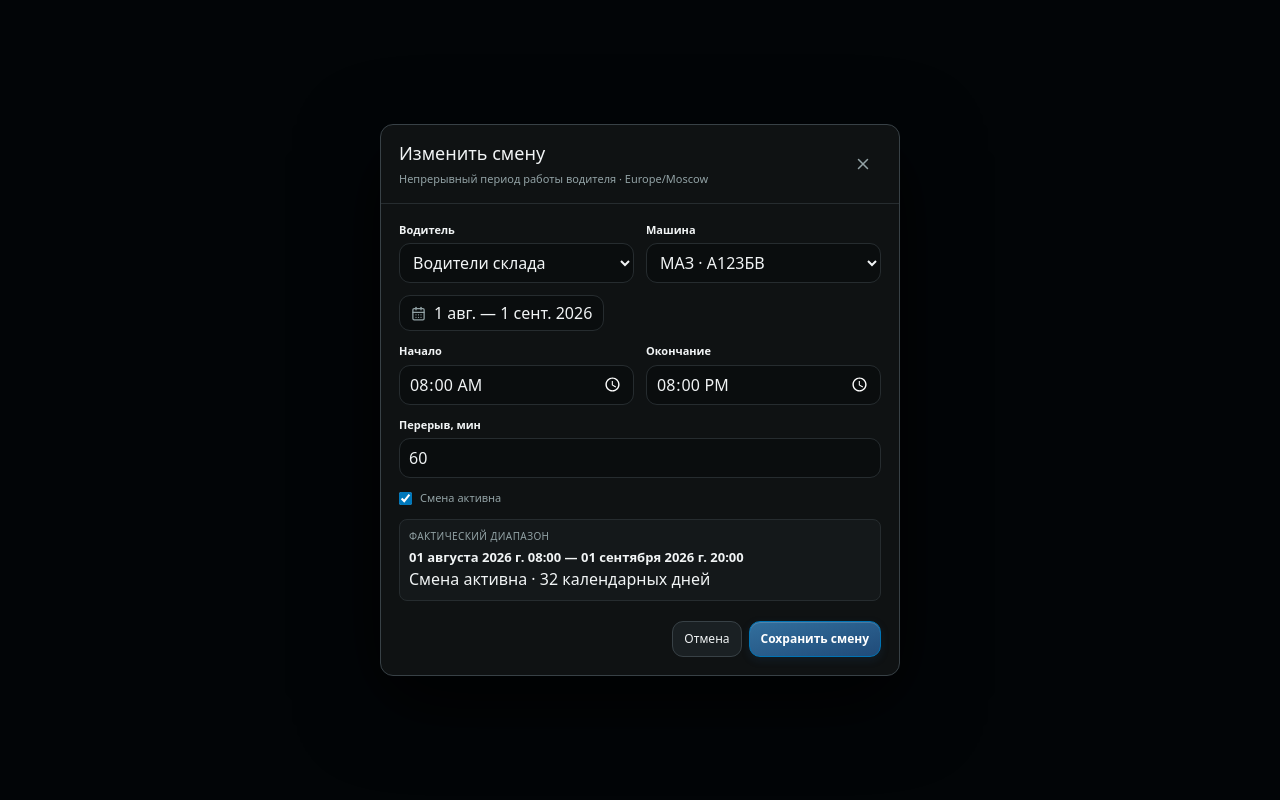
Test case: driver shift range › rejects an inclusive range longer than 31 consecutive days
What coordinates should you click on to do the following:
click the button "Сохранить смену"
I would click on:
 (815, 639)
Its box is x1=748 y1=621 x2=881 y2=657.
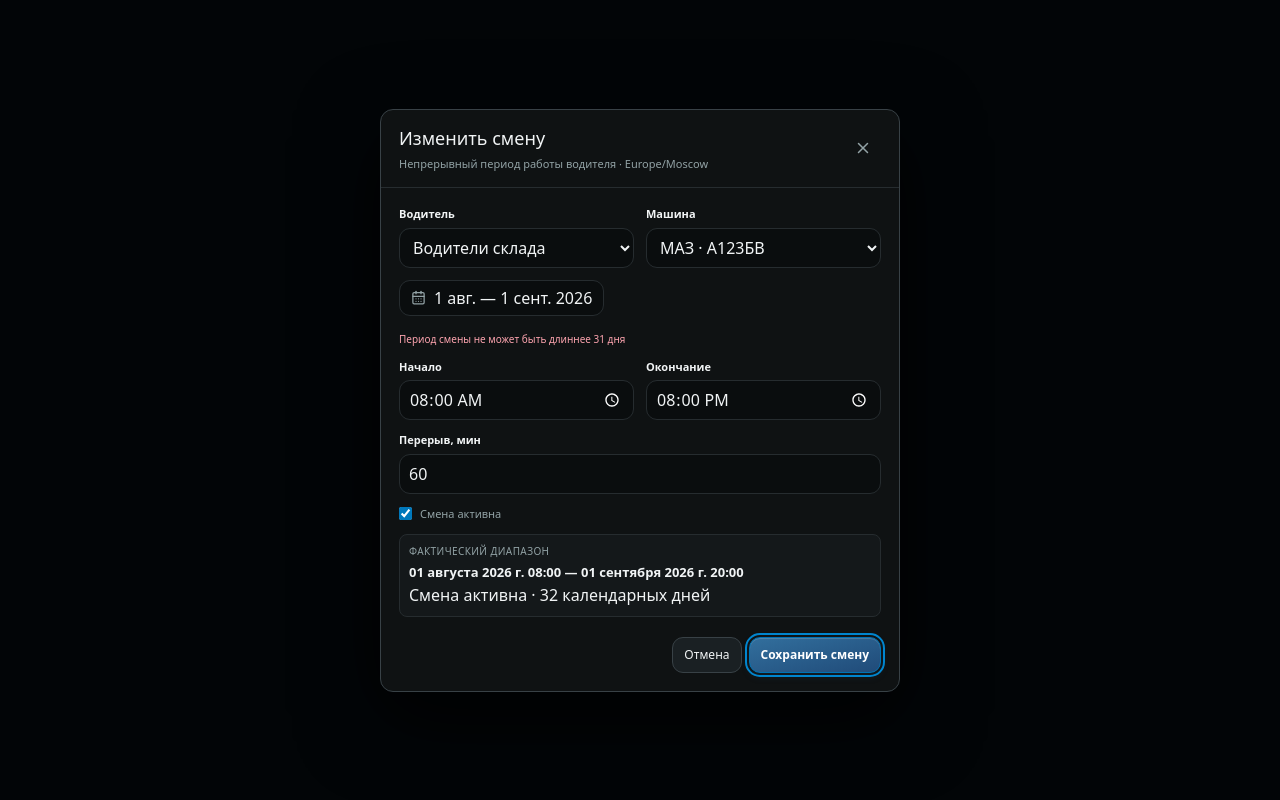
Check: the text "Период смены не может быть длиннее 31 дня" is shown, box x1=399 y1=332 x2=625 y2=346
